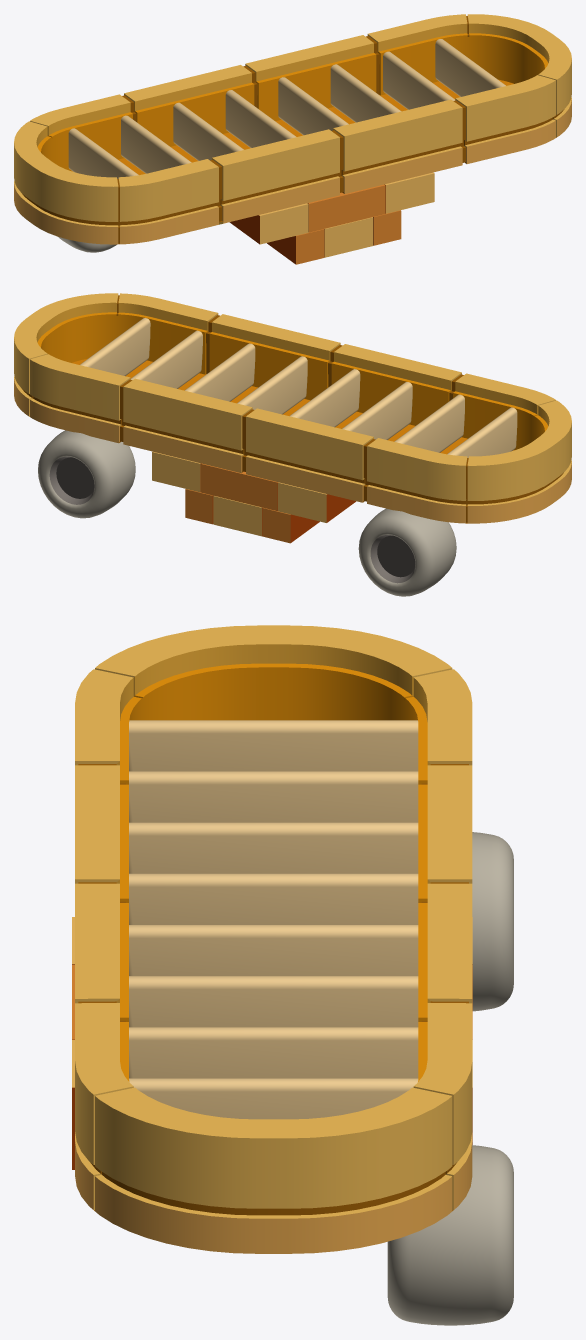
The model's file is YellowSlotTray.fbx.
3 views of the same model, one above another, from view 1: azimuth 30°, elevation 25°; view 2: azimuth 150°, elevation 25°; view 3: azimuth 270°, elevation 25° (orthographic). The views are drawn at different scales.
Visible parts, largest first — view 1: YellowSlotTray, Wheels; view 2: YellowSlotTray, Wheels; view 3: YellowSlotTray, Wheels.
Part boxes in pixels (x1,y1,x2,y2): YellowSlotTray: (14,14,571,264); Wheels: (58,237,117,252); YellowSlotTray: (14,293,571,543); Wheels: (38,430,456,596); YellowSlotTray: (72,625,472,1253); Wheels: (387,832,513,1325).
Bounding box in the file's own units: 1068 × 269 × 389.
1 material, 1 textured.
